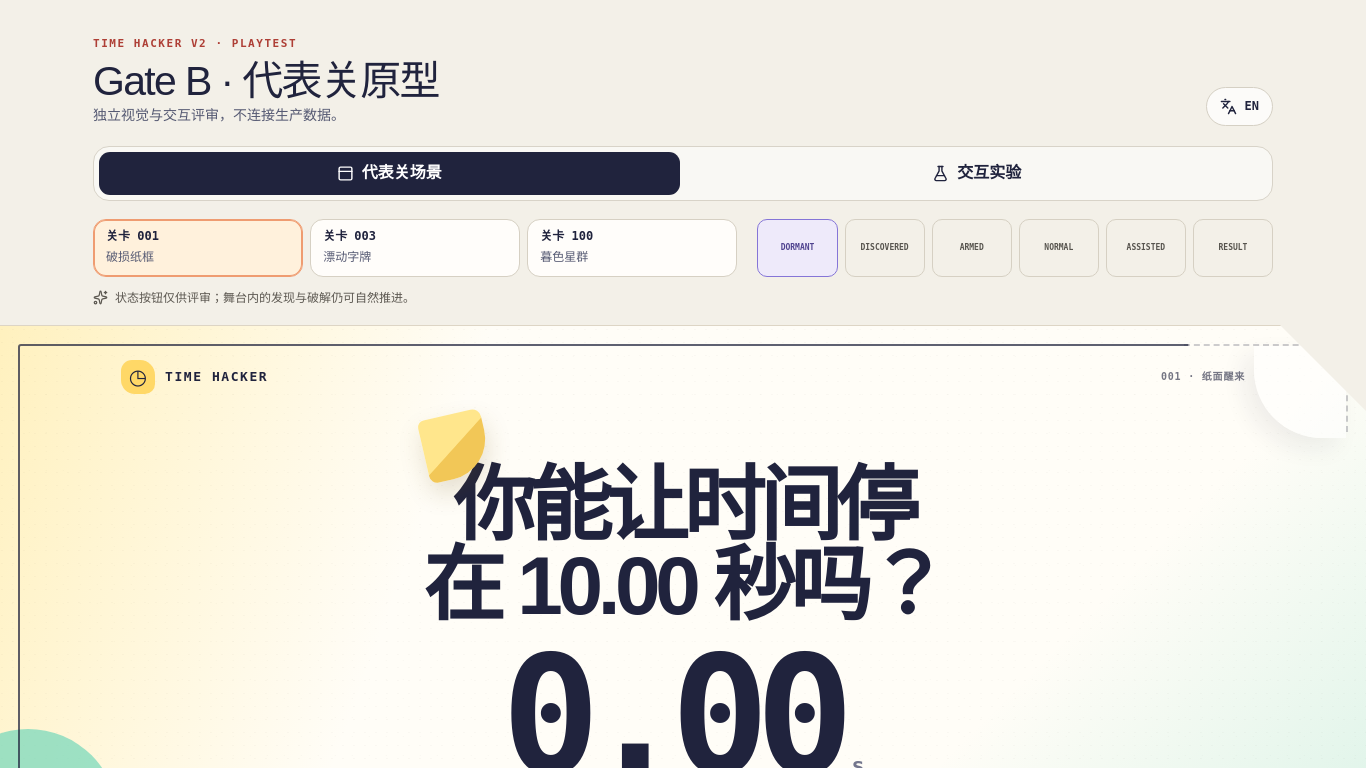
it: Gate B prototype lab › shows the normal and assisted timing states as different outcomes
Click the button with aria-label "RUNNING_NORMAL": (1059, 248) [1019,219,1099,277]
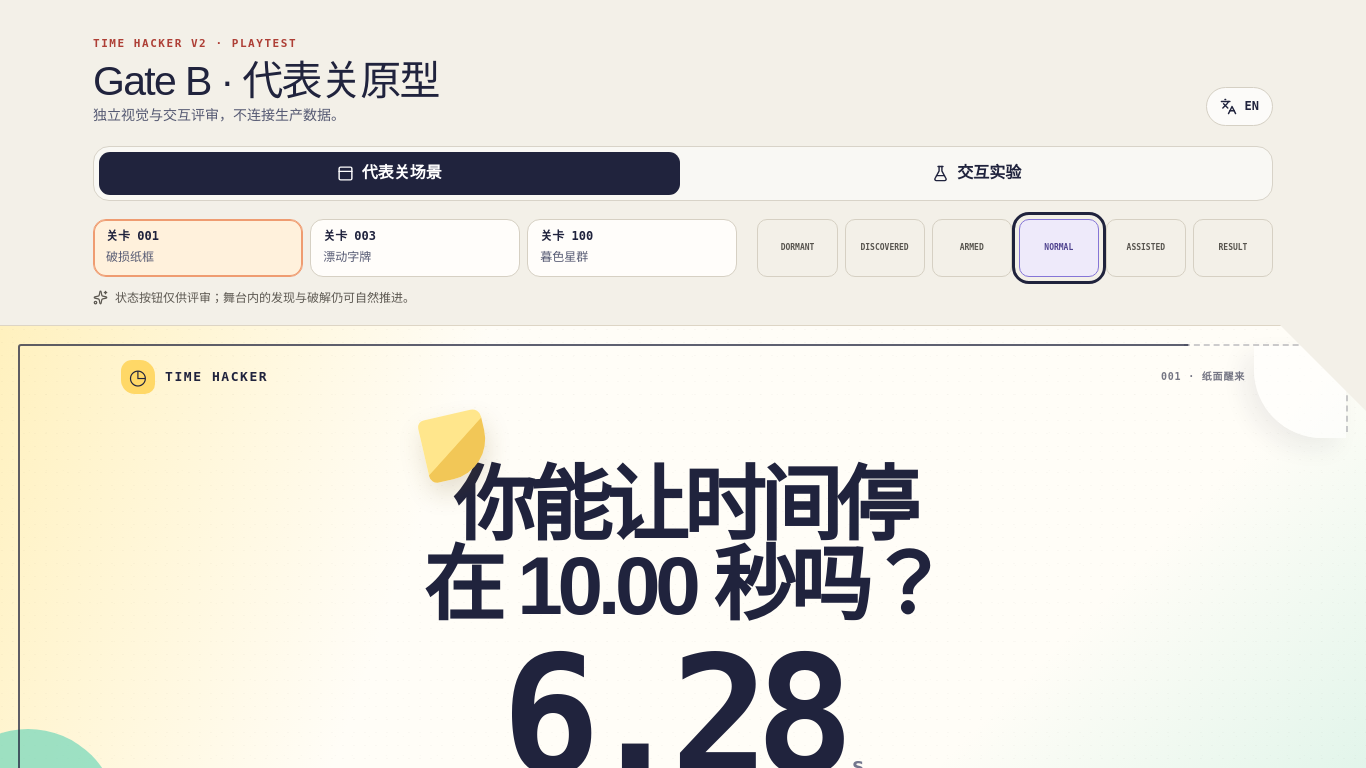
Click the button with aria-label "RUNNING_ASSISTED": (1146, 248) [1106,219,1186,277]
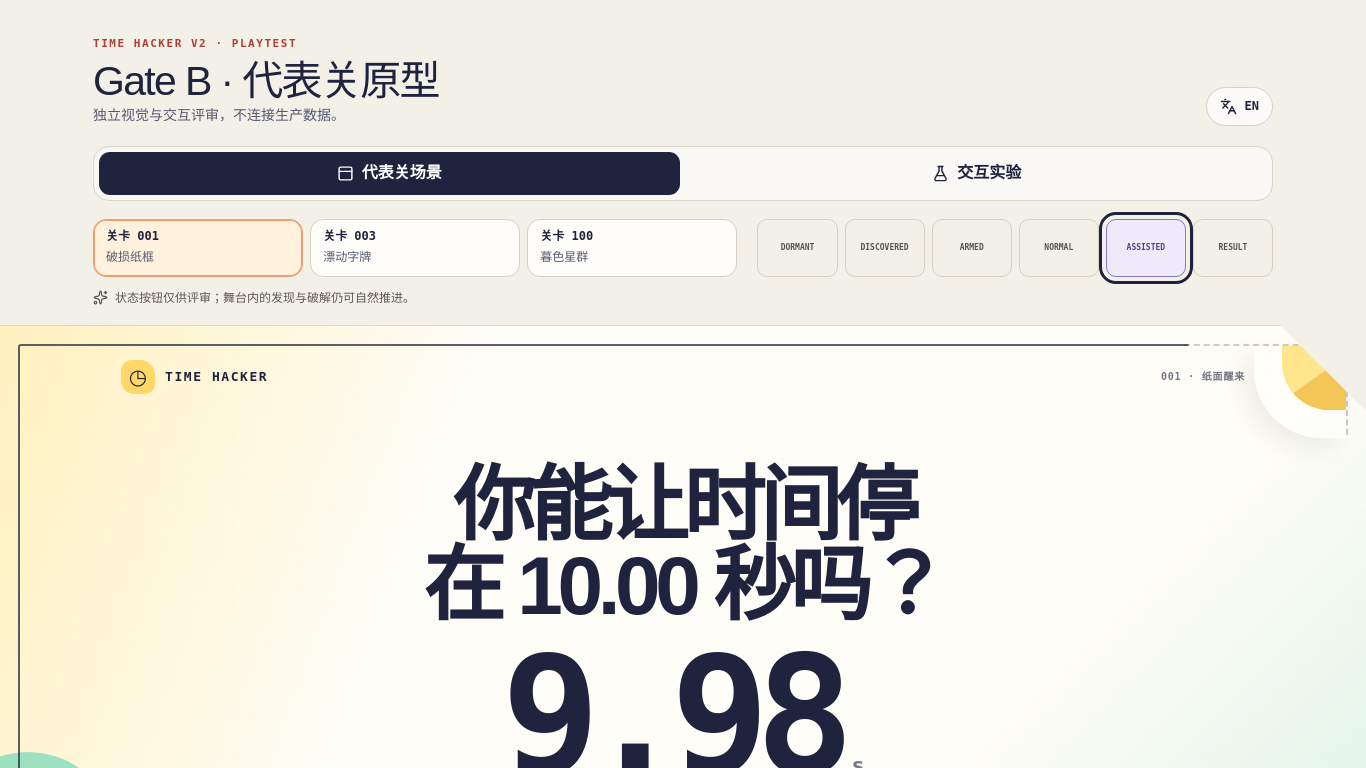
Click the button "RESULT": (1233, 248) [1193,219,1273,277]
(page scrolled)
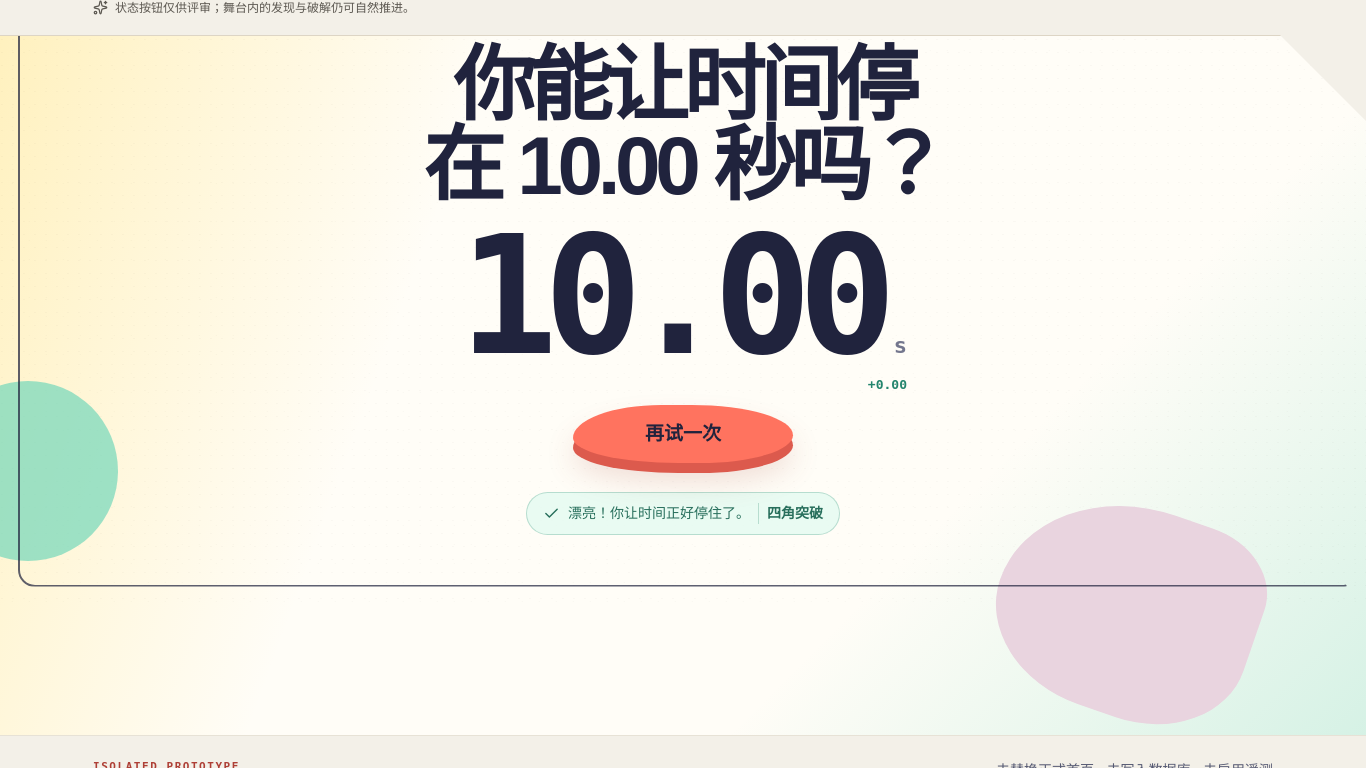
Result: the text "10.00" is shown at [459,215,883,378]
Result: the text "+0.00" is shown at [868,375,907,394]
